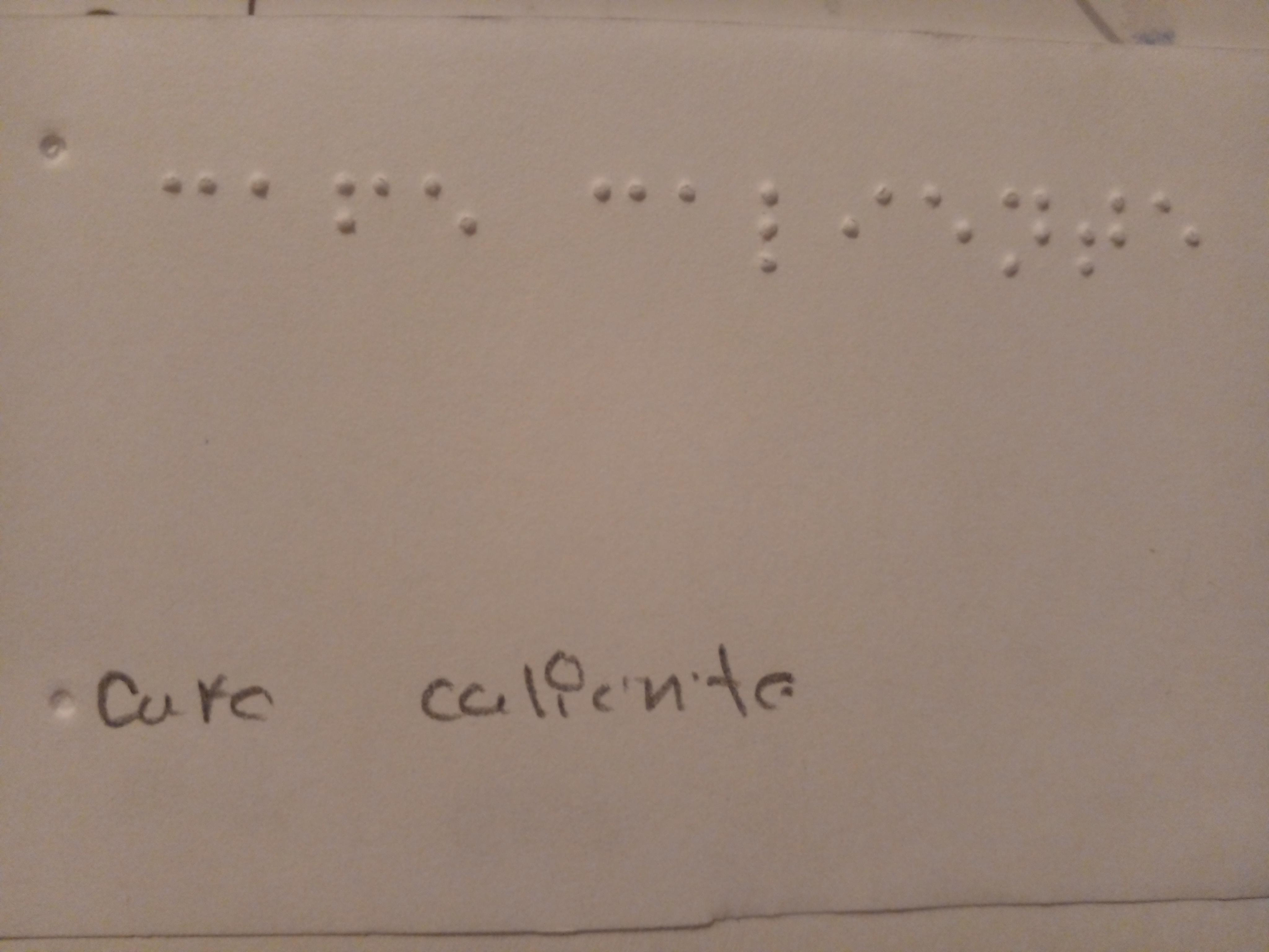a: (669, 161, 713, 234), (242, 163, 285, 215)
c: (586, 152, 657, 231), (153, 155, 222, 232)
e: (415, 164, 494, 254), (1151, 178, 1213, 271), (912, 177, 979, 259)
f: (328, 161, 397, 249)
i: (830, 174, 895, 262)
l: (745, 170, 790, 290)
n: (990, 172, 1055, 284)
t: (1070, 180, 1139, 285)
